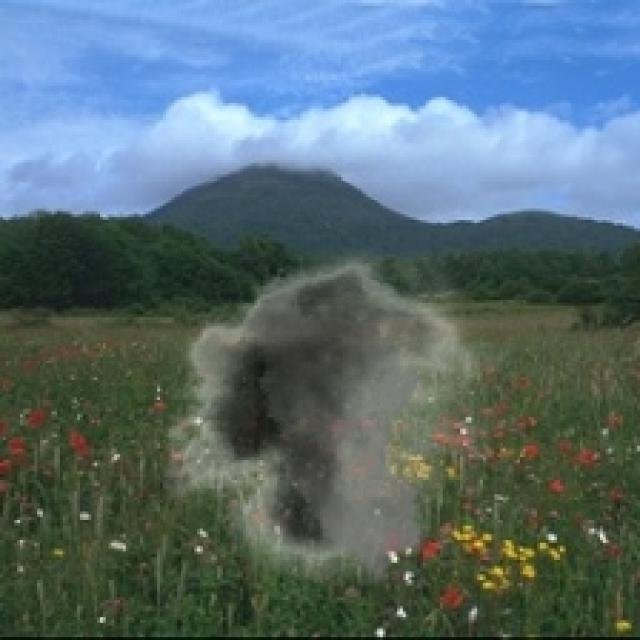smoke: (146, 237, 520, 586)
